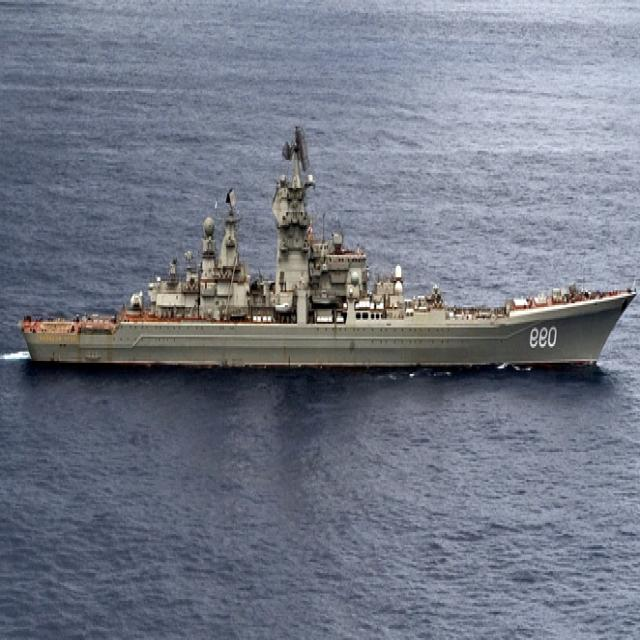navalvessels: (10, 95, 632, 394)
